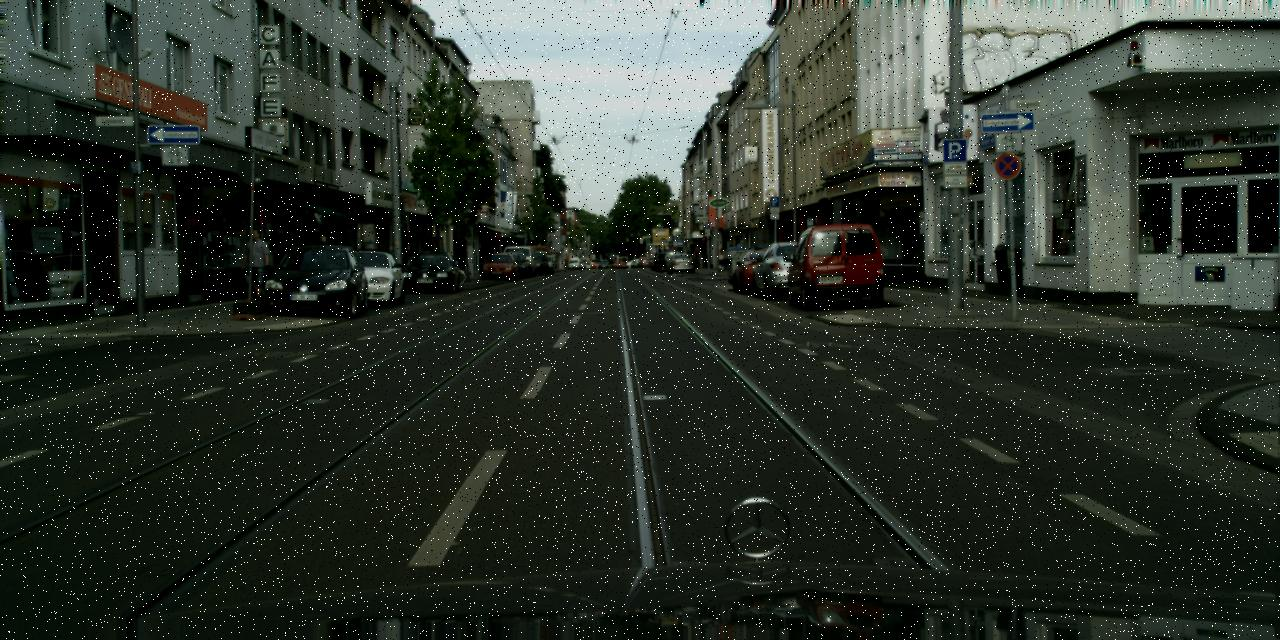ped: (243, 230, 271, 300)
